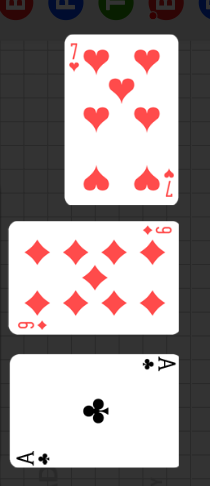7H: (68, 42, 81, 73)
9D: (141, 225, 174, 236)
AC: (140, 357, 177, 374)
